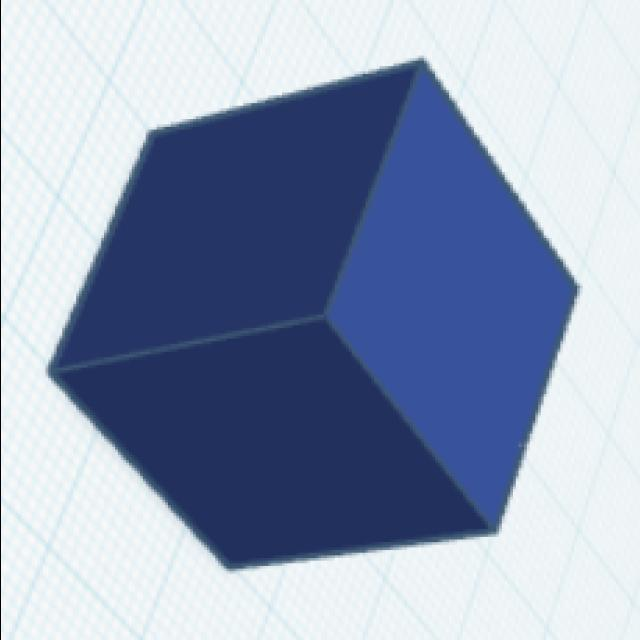cube: (39, 54, 586, 577)
